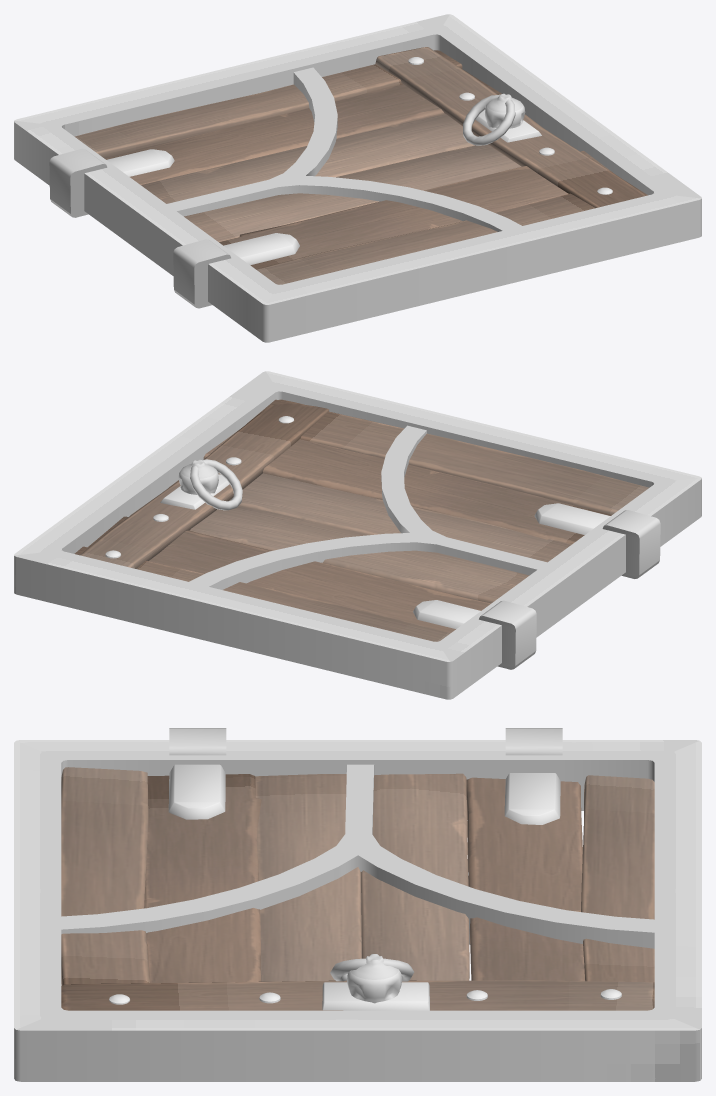
Rendered from SM_Trapdoor_Lid.fbx.
3 views of the same model, one above another, from view 1: azimuth 30°, elevation 25°; view 2: azimuth 150°, elevation 25°; view 3: azimuth 270°, elevation 25° (orthographic). The views are drawn at different scales.
Visible parts, largest first — view 1: SM_Trapdoor_Lid_LOD0; view 2: SM_Trapdoor_Lid_LOD0; view 3: SM_Trapdoor_Lid_LOD0.
Boxes of the visible parts, x1=… form: SM_Trapdoor_Lid_LOD0: x1=14, y1=14, x2=701, y2=342; SM_Trapdoor_Lid_LOD0: x1=14, y1=371, x2=701, y2=699; SM_Trapdoor_Lid_LOD0: x1=14, y1=728, x2=701, y2=1081.
Size of the model in its own units: 248 by 240 by 33.62.
